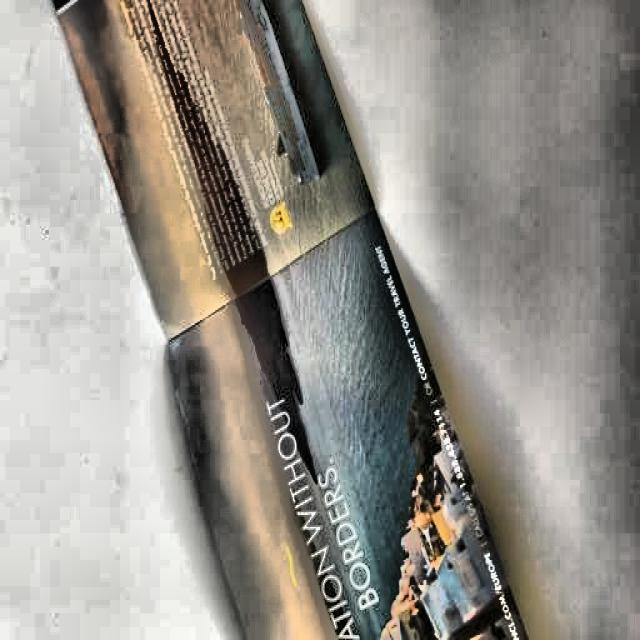paper: (46, 3, 501, 637)
